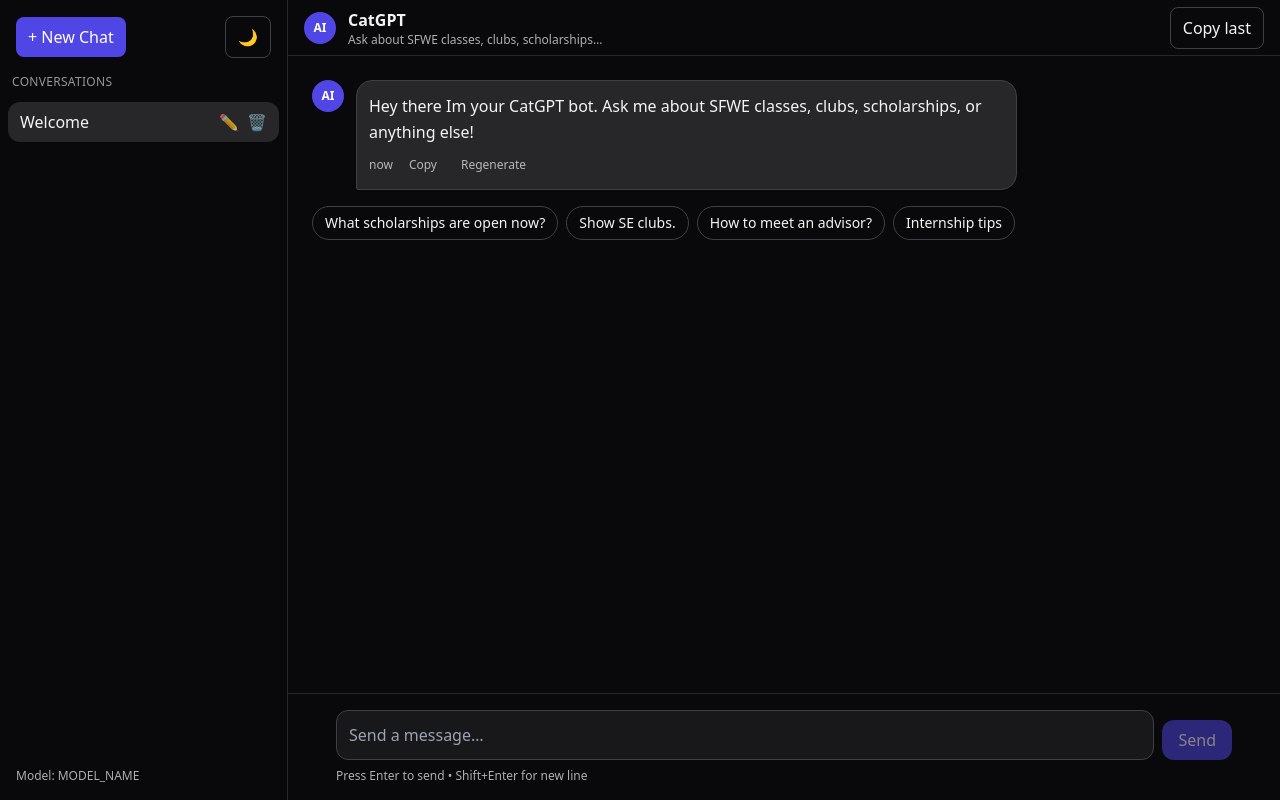
Test: ChatbotUI › Blocklist Integration › should block messages with inappropriate words
Type "bad word" into the text box with placeholder "Send a message…". click: (745, 735)
box: [336, 710, 1154, 760]
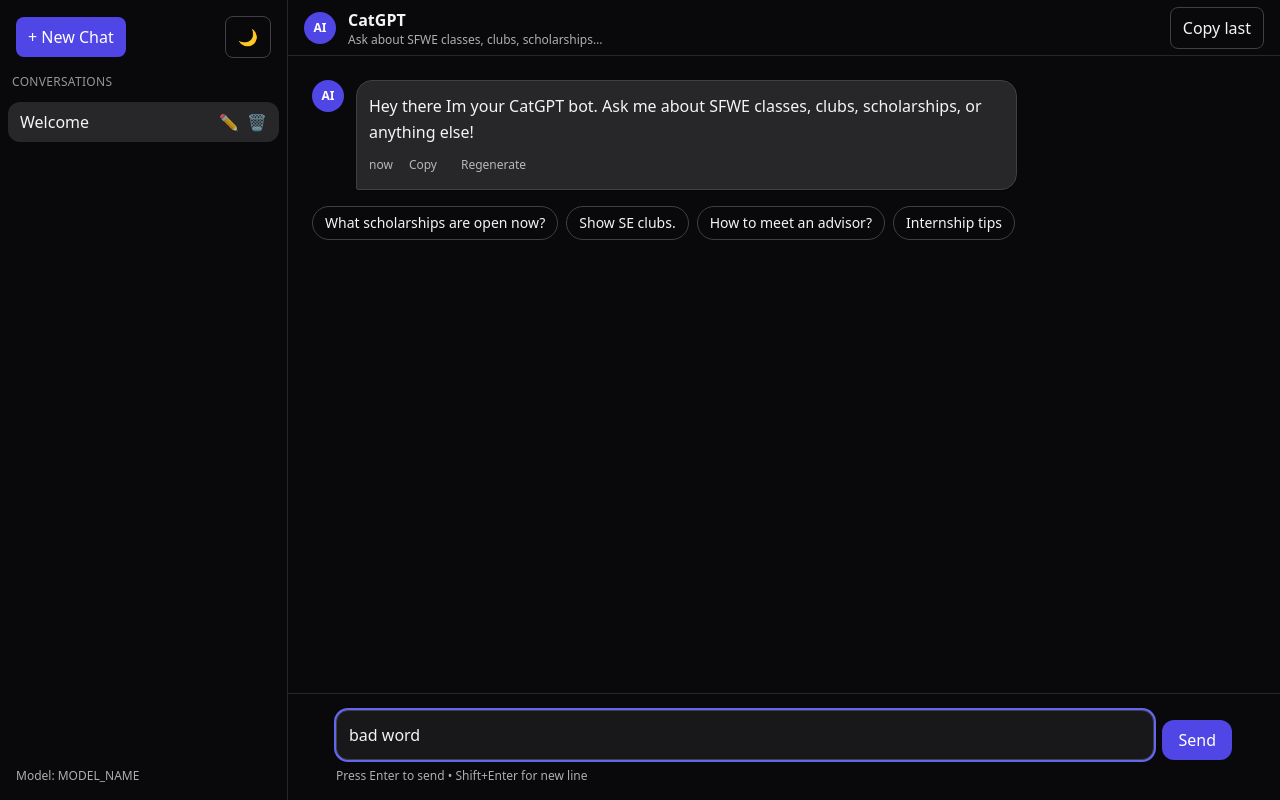
Click the button "Send". click: click(1197, 740)
box: [1162, 720, 1232, 760]
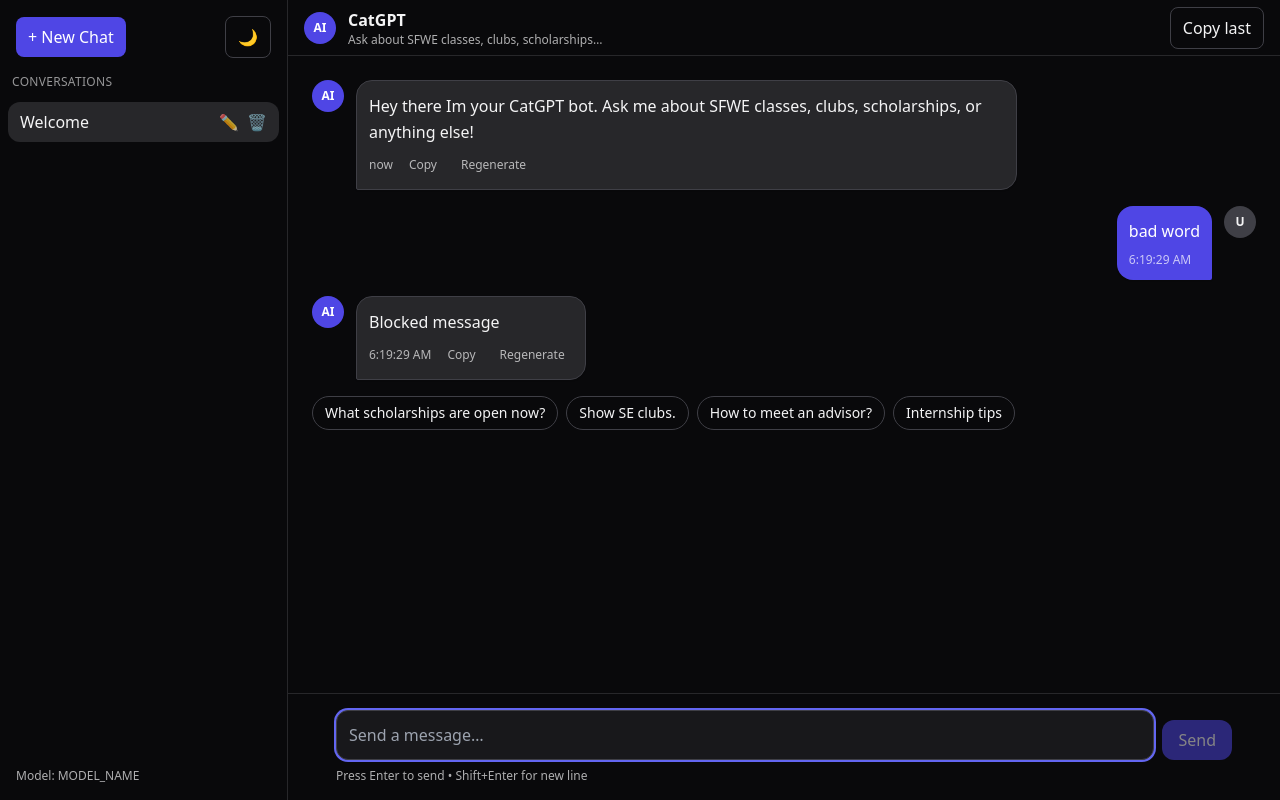
Now the text "Blocked message" is shown, box [369, 311, 500, 333]
